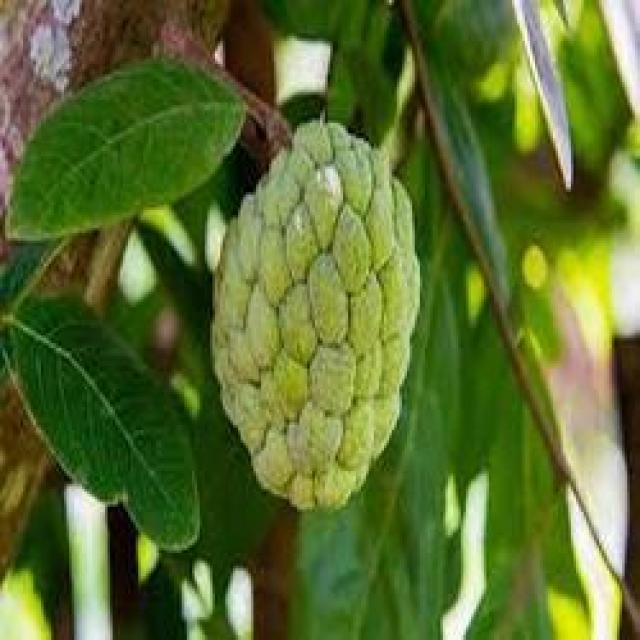apple: (210, 102, 420, 535)
